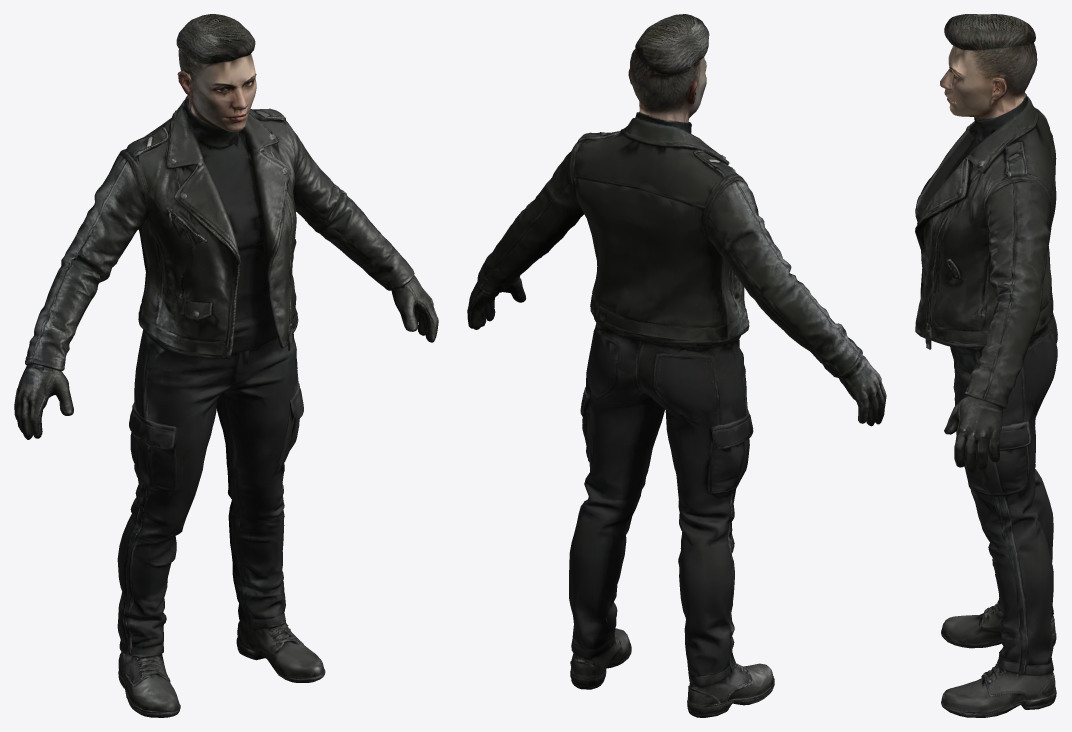
Rendered from Juno_Kade.glb.
3 views of the same model, side by side, from view 1: azimuth 30°, elevation 25°; view 2: azimuth 150°, elevation 25°; view 3: azimuth 270°, elevation 25° (orthographic).
Parts seen in each view (by area): view 1: tripo_node_3be39440-b986-4aca-b4d3-1080985e75dd; view 2: tripo_node_3be39440-b986-4aca-b4d3-1080985e75dd; view 3: tripo_node_3be39440-b986-4aca-b4d3-1080985e75dd.
Part boxes in pixels (x1,y1,x2,y2): tripo_node_3be39440-b986-4aca-b4d3-1080985e75dd: (14,14,438,717); tripo_node_3be39440-b986-4aca-b4d3-1080985e75dd: (467,14,886,717); tripo_node_3be39440-b986-4aca-b4d3-1080985e75dd: (915,14,1057,717).
Bounding box in the file's own units: 0.6397 × 0.9792 × 0.1925.
Materials: 1 (1 with a texture image).
